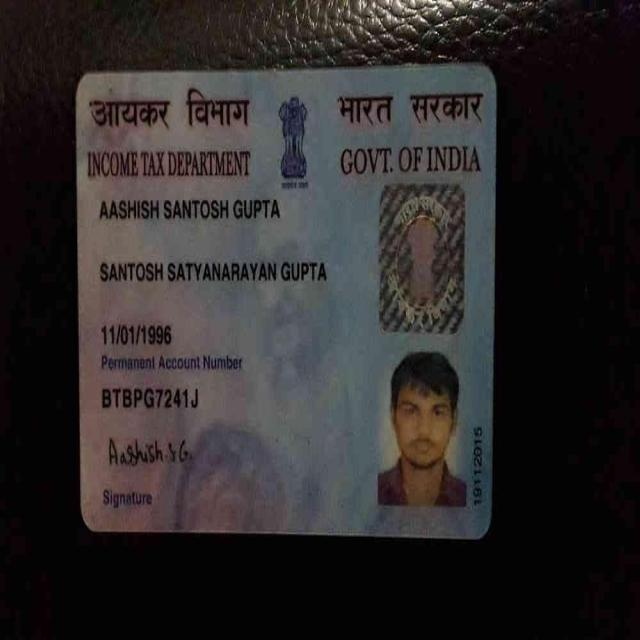pan_card: (84, 75, 492, 525)
